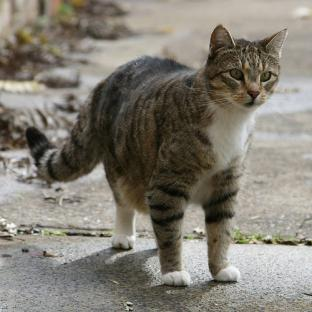Animal: (26, 25, 287, 286)
